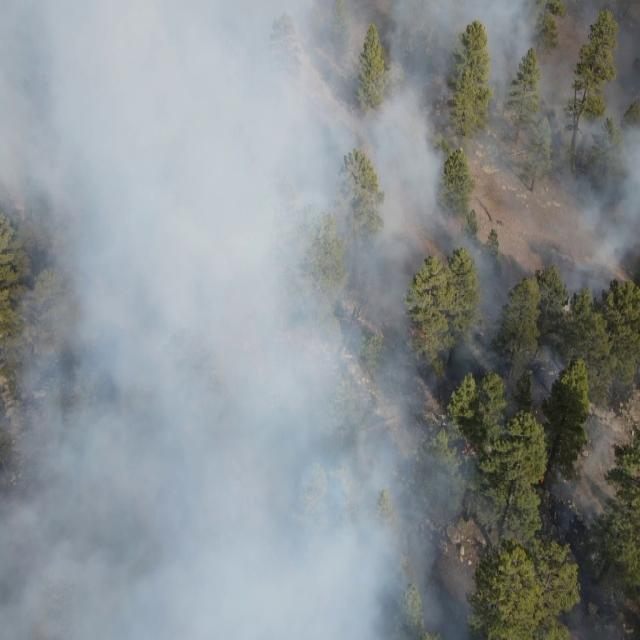fire: (458, 440, 482, 459)
smoke: (2, 0, 640, 208), (25, 210, 514, 430), (29, 432, 488, 640), (519, 207, 640, 295), (562, 390, 625, 530), (3, 330, 26, 640), (532, 336, 565, 402)
